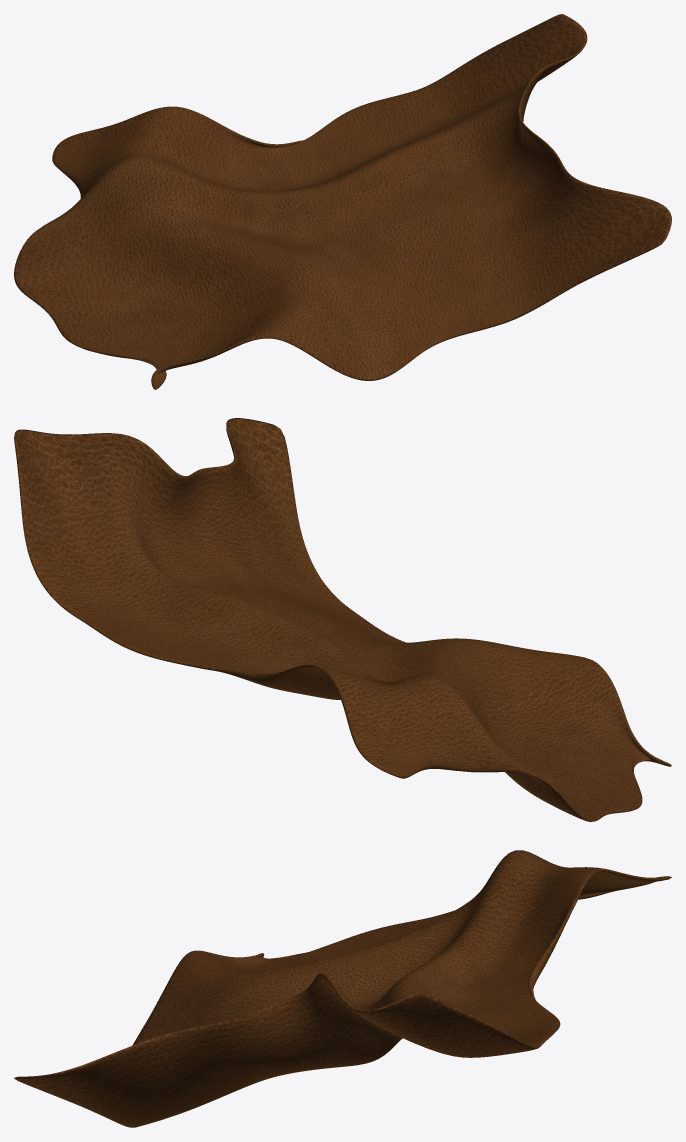
The model's file is cuero_bovino_v003_candidate.glb.
3 renders of one model, top to bottom at view 1: azimuth 30°, elevation 25°; view 2: azimuth 150°, elevation 25°; view 3: azimuth 270°, elevation 25°, orthographic. The views are drawn at different scales.
Parts seen in each view (by area): view 1: Vegetable tanned bovino naturally folded hide; view 2: Vegetable tanned bovino naturally folded hide; view 3: Vegetable tanned bovino naturally folded hide.
Boxes of the visible parts, x1=… form: Vegetable tanned bovino naturally folded hide: x1=14, y1=14, x2=671, y2=389; Vegetable tanned bovino naturally folded hide: x1=14, y1=418, x2=671, y2=821; Vegetable tanned bovino naturally folded hide: x1=14, y1=850, x2=671, y2=1127.
Size of the model in its own units: 0.6538 by 0.2516 by 0.5685.
1 material, 1 textured.
